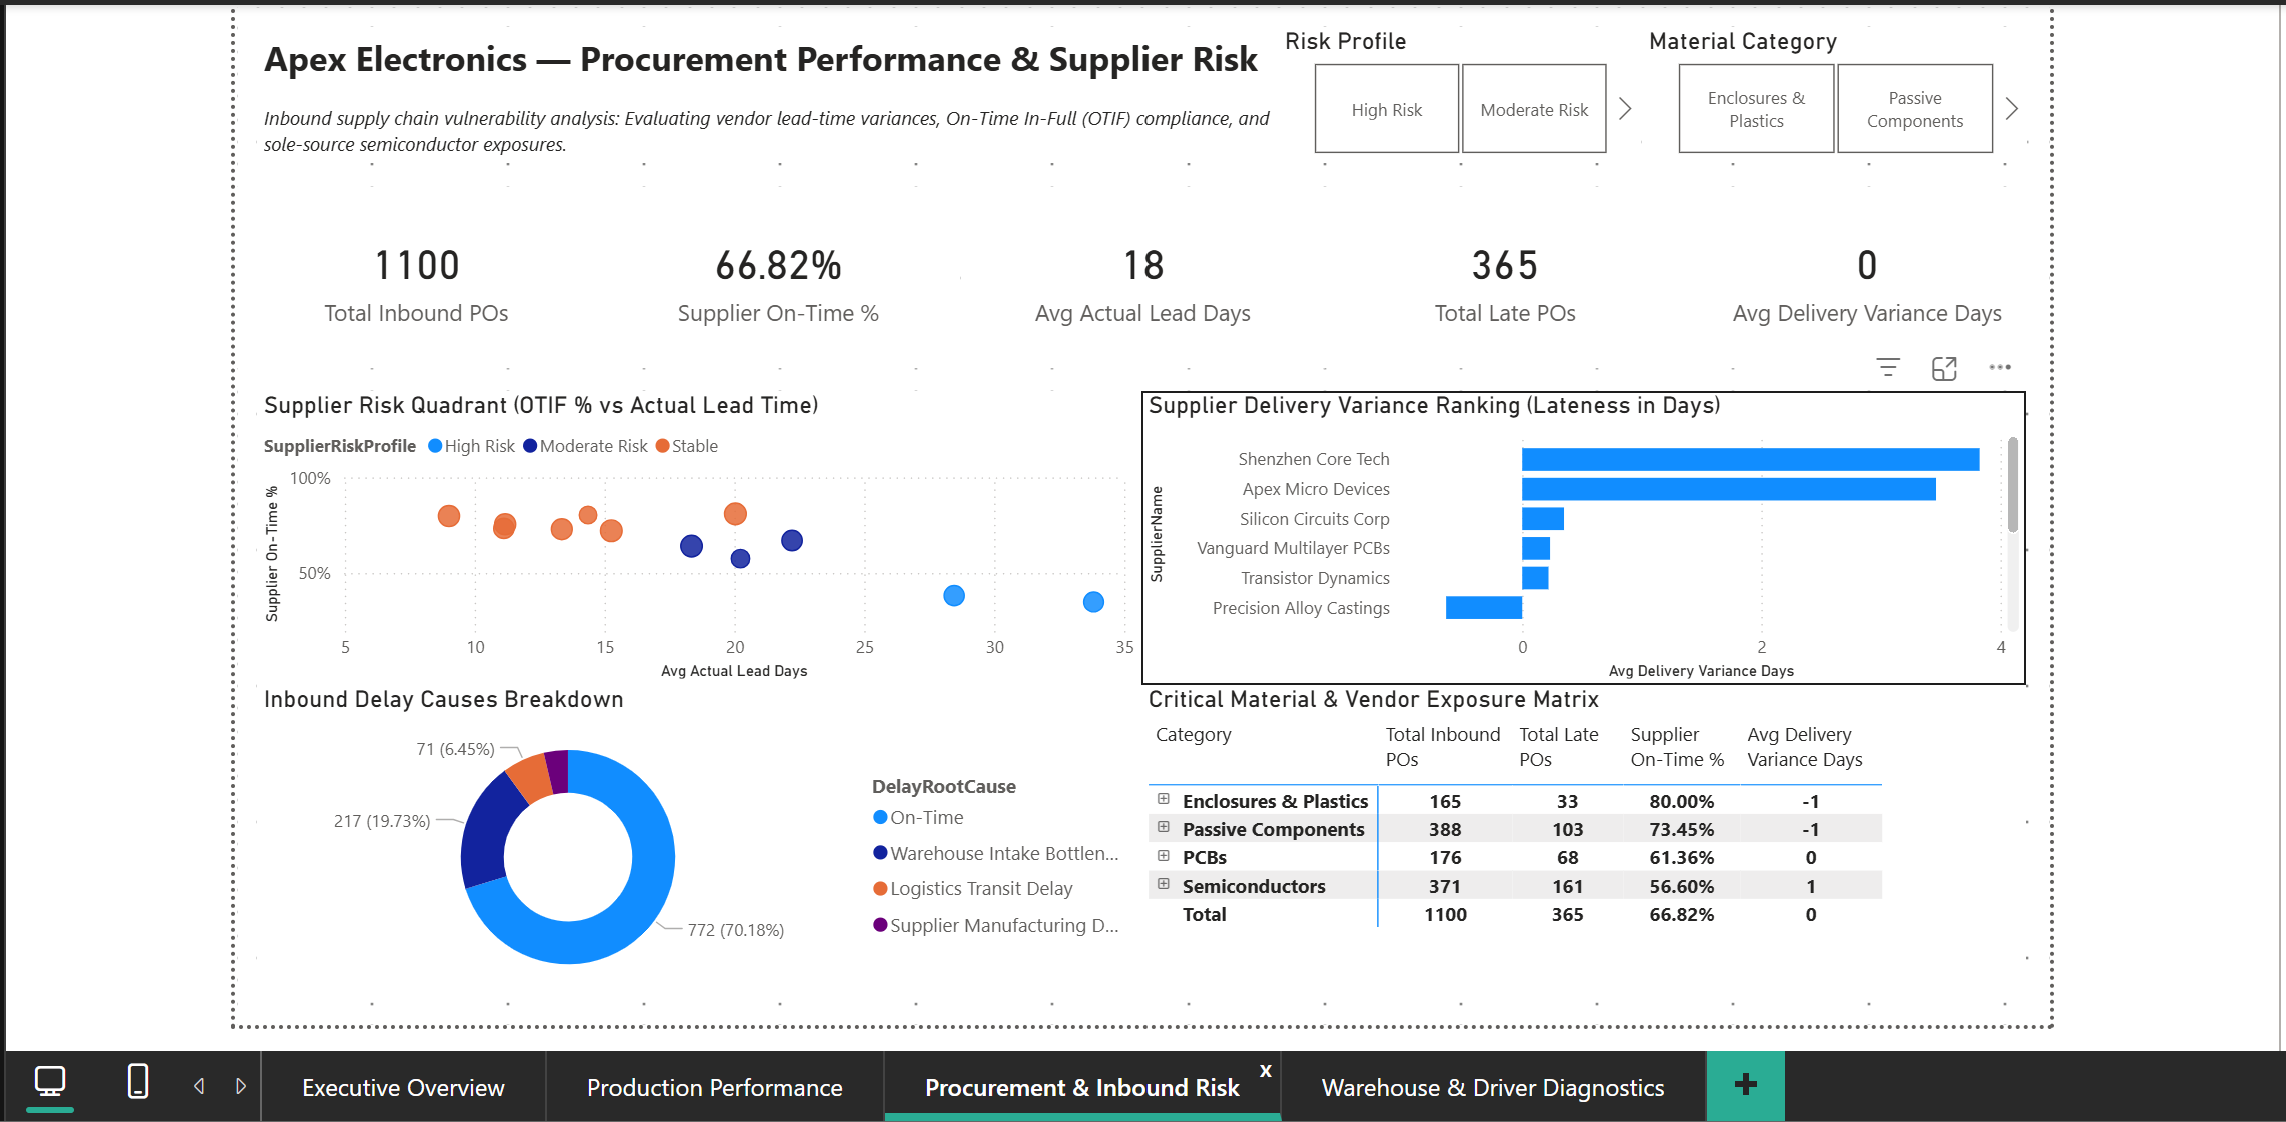

What the dashboard file says about the page in this screenshot:
{"tool":"powerbi","page":{"name":"Procurement & Inbound Risk","canvas":[1280,720],"ordinal":2},"visuals":[{"type":"textbox","box":[16,16,720,96],"z":0},{"type":"slicer","title":"Risk Profile","fields":{"Values":["Dim_Supplier.SupplierRiskProfile"]},"box":[736,16,256,96],"z":1000},{"type":"slicer","title":"Material Category","fields":{"Values":["Dim_Supplier.CategoryProvided"]},"box":[992,16,272,96],"z":2000},{"type":"card","fields":{"Values":["_Measures.Total Inbound POs"]},"box":[0,128,256,128],"z":3000},{"type":"card","fields":{"Values":["_Measures.Supplier On-Time %"]},"box":[256,128,256,128],"z":4000},{"type":"card","fields":{"Values":["_Measures.Avg Actual Lead Days"]},"box":[512,128,256,128],"z":5000},{"type":"card","fields":{"Values":["_Measures.Total Late POs"]},"box":[768,128,256,128],"z":6000},{"type":"card","fields":{"Values":["_Measures.Avg Delivery Variance Days"]},"box":[1024,128,256,128],"z":7000},{"type":"scatterChart","title":"Supplier Risk Quadrant (OTIF % vs Actual Lead Time)","fields":{"X":["_Measures.Avg Actual Lead Days"],"Y":["_Measures.Supplier On-Time %"],"Size":["_Measures.Total Inbound POs"],"Series":["Dim_Supplier.SupplierRiskProfile"],"Category":["Dim_Supplier.SupplierName"]},"box":[16,272,624,208],"z":8000},{"type":"clusteredBarChart","title":"Supplier Delivery Variance Ranking (Lateness in Days)","fields":{"Category":["Dim_Supplier.SupplierName"],"Y":["_Measures.Avg Delivery Variance Days"]},"box":[640,272,624,208],"z":9000},{"type":"donutChart","title":"Inbound Delay Causes Breakdown","fields":{"Y":["_Measures.Total Inbound POs"],"Category":["Fact_InboundProcurement.DelayRootCause"]},"box":[16,480,624,224],"z":10000},{"type":"pivotTable","title":"Critical Material & Vendor Exposure Matrix","fields":{"Rows":["Dim_Material.Category","Dim_Supplier.SupplierName","Dim_Material.MaterialName"],"Values":["_Measures.Total Inbound POs","_Measures.Total Late POs","_Measures.Supplier On-Time %","_Measures.Avg Delivery Variance Days"]},"box":[640,480,624,224],"z":11000}]}

Visuals, with their boxes on the page's 1280x720 design canvas (x1, y1, x2, y2). These are canvas units, not pixel positions in the 2286x1122 screenshot, which may show the page scaled, cropped or inside an application window:
textbox: detection(16, 16, 736, 112)
"Risk Profile" slicer: detection(736, 16, 992, 112)
"Material Category" slicer: detection(992, 16, 1264, 112)
card - _Measures.Total Inbound POs: detection(0, 128, 256, 256)
card - _Measures.Supplier On-Time %: detection(256, 128, 512, 256)
card - _Measures.Avg Actual Lead Days: detection(512, 128, 768, 256)
card - _Measures.Total Late POs: detection(768, 128, 1024, 256)
card - _Measures.Avg Delivery Variance Days: detection(1024, 128, 1280, 256)
"Supplier Risk Quadrant (OTIF % vs Actual Lead Time)" scatterChart: detection(16, 272, 640, 480)
"Supplier Delivery Variance Ranking (Lateness in Days)" clusteredBarChart: detection(640, 272, 1264, 480)
"Inbound Delay Causes Breakdown" donutChart: detection(16, 480, 640, 704)
"Critical Material & Vendor Exposure Matrix" pivotTable: detection(640, 480, 1264, 704)
